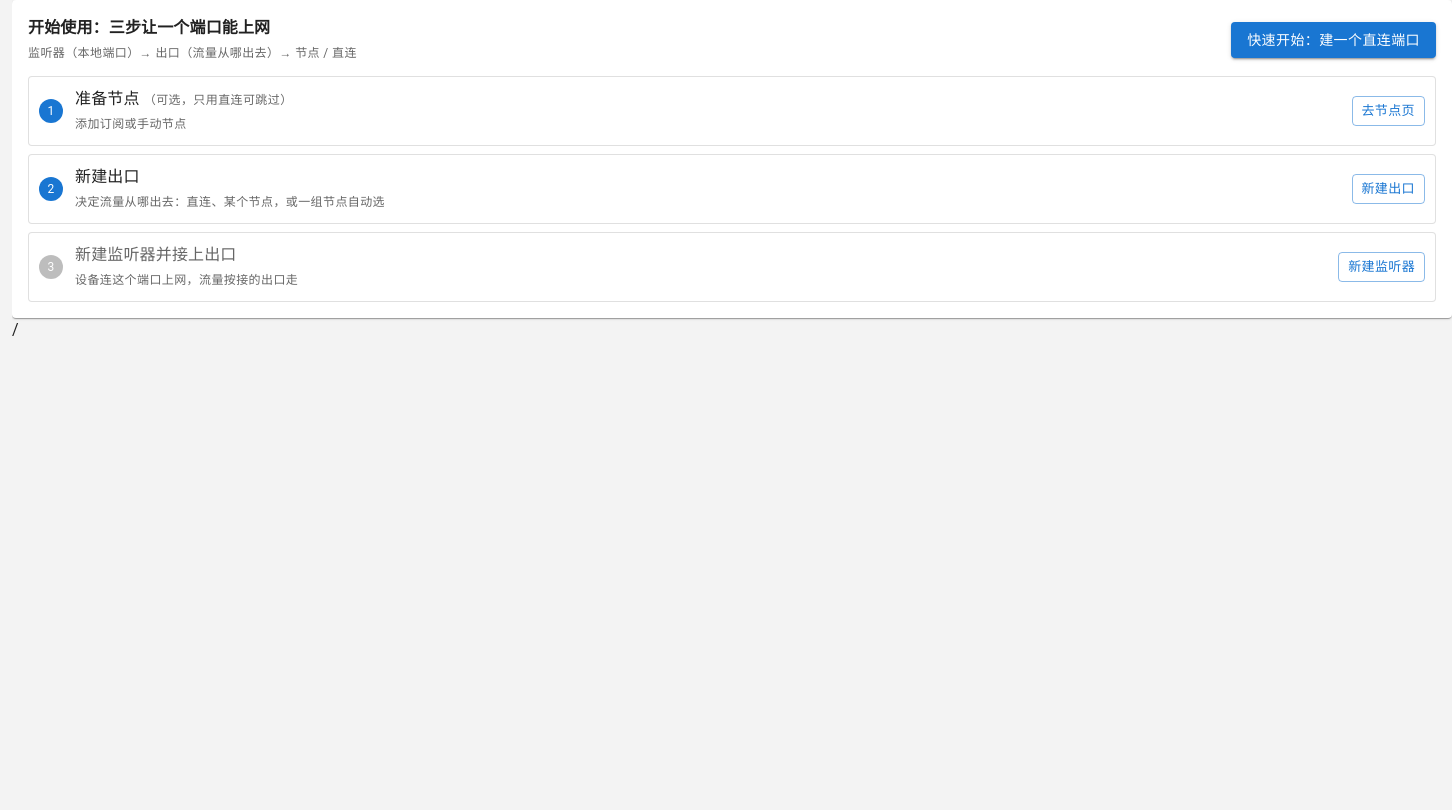
Scenario: GettingStarted › quick start creates a direct exit and a listener wired to it
Click the button "快速开始：建一个直连端口" at (1334, 40), box [1231, 22, 1436, 58]
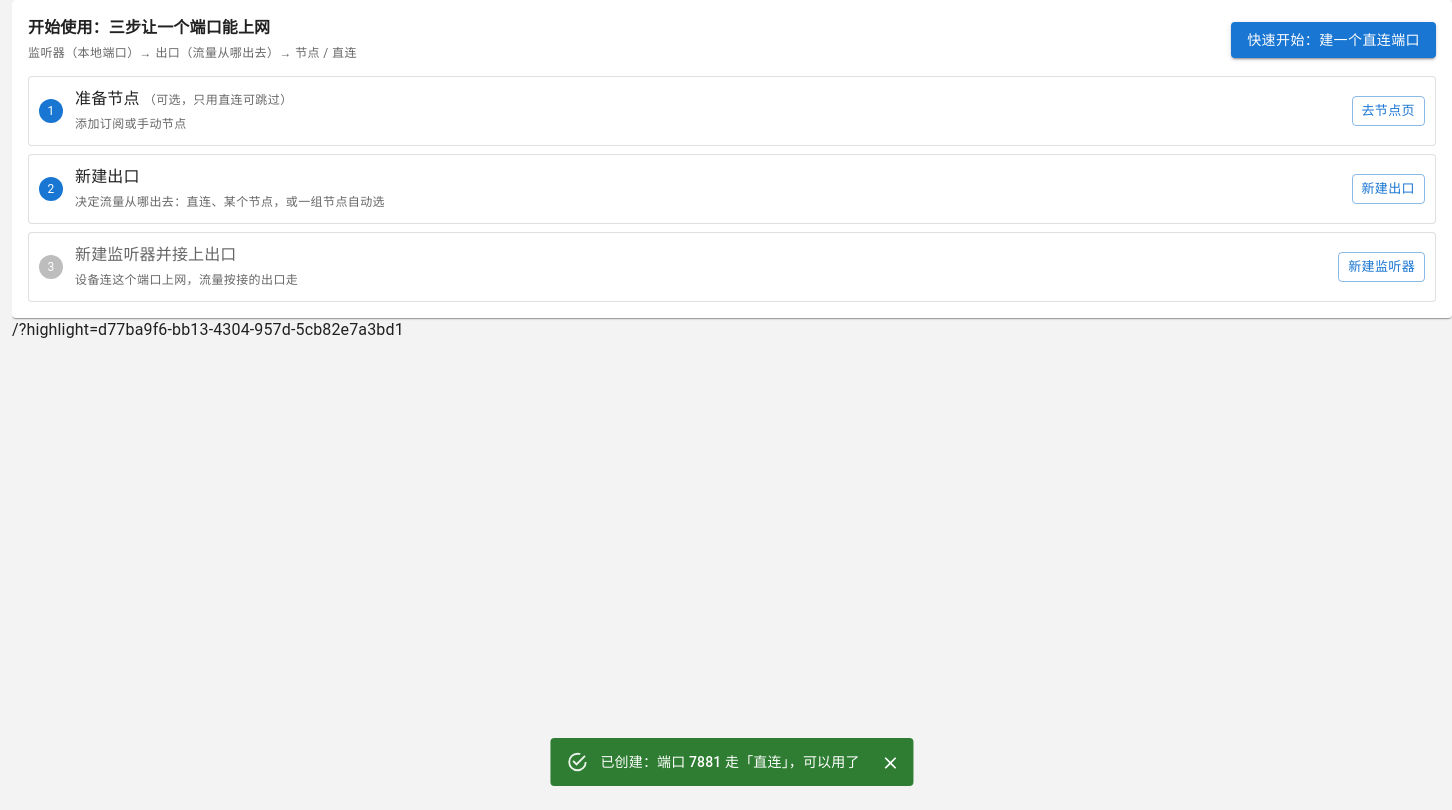
Result: the text "已创建：端口 7881 走「直连」，可以用了" is shown at [600, 754, 860, 770]
